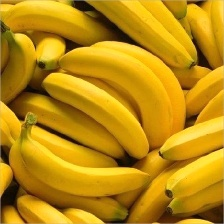banana: (19, 49, 197, 192)
